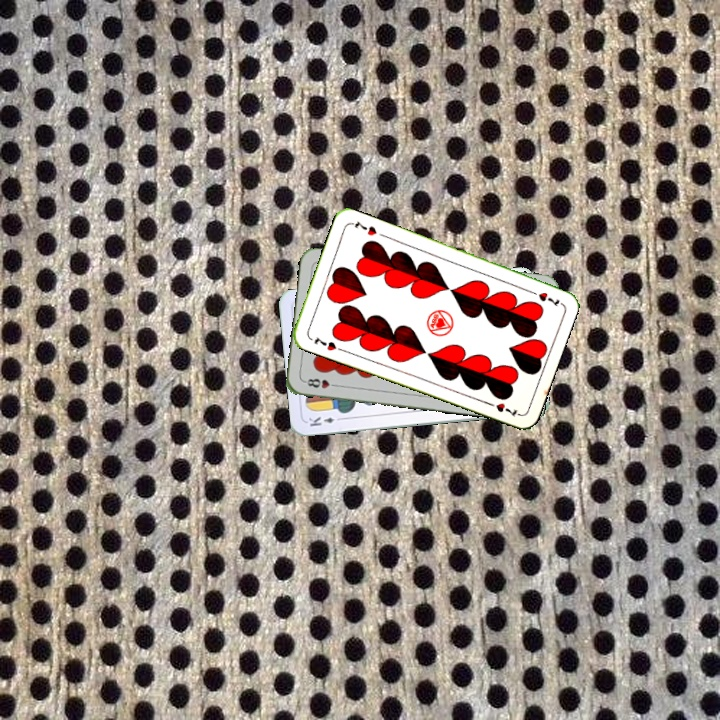EK: (304, 413, 345, 429)
H7: (524, 286, 562, 309), (310, 333, 339, 353)
H8: (301, 374, 341, 391)
